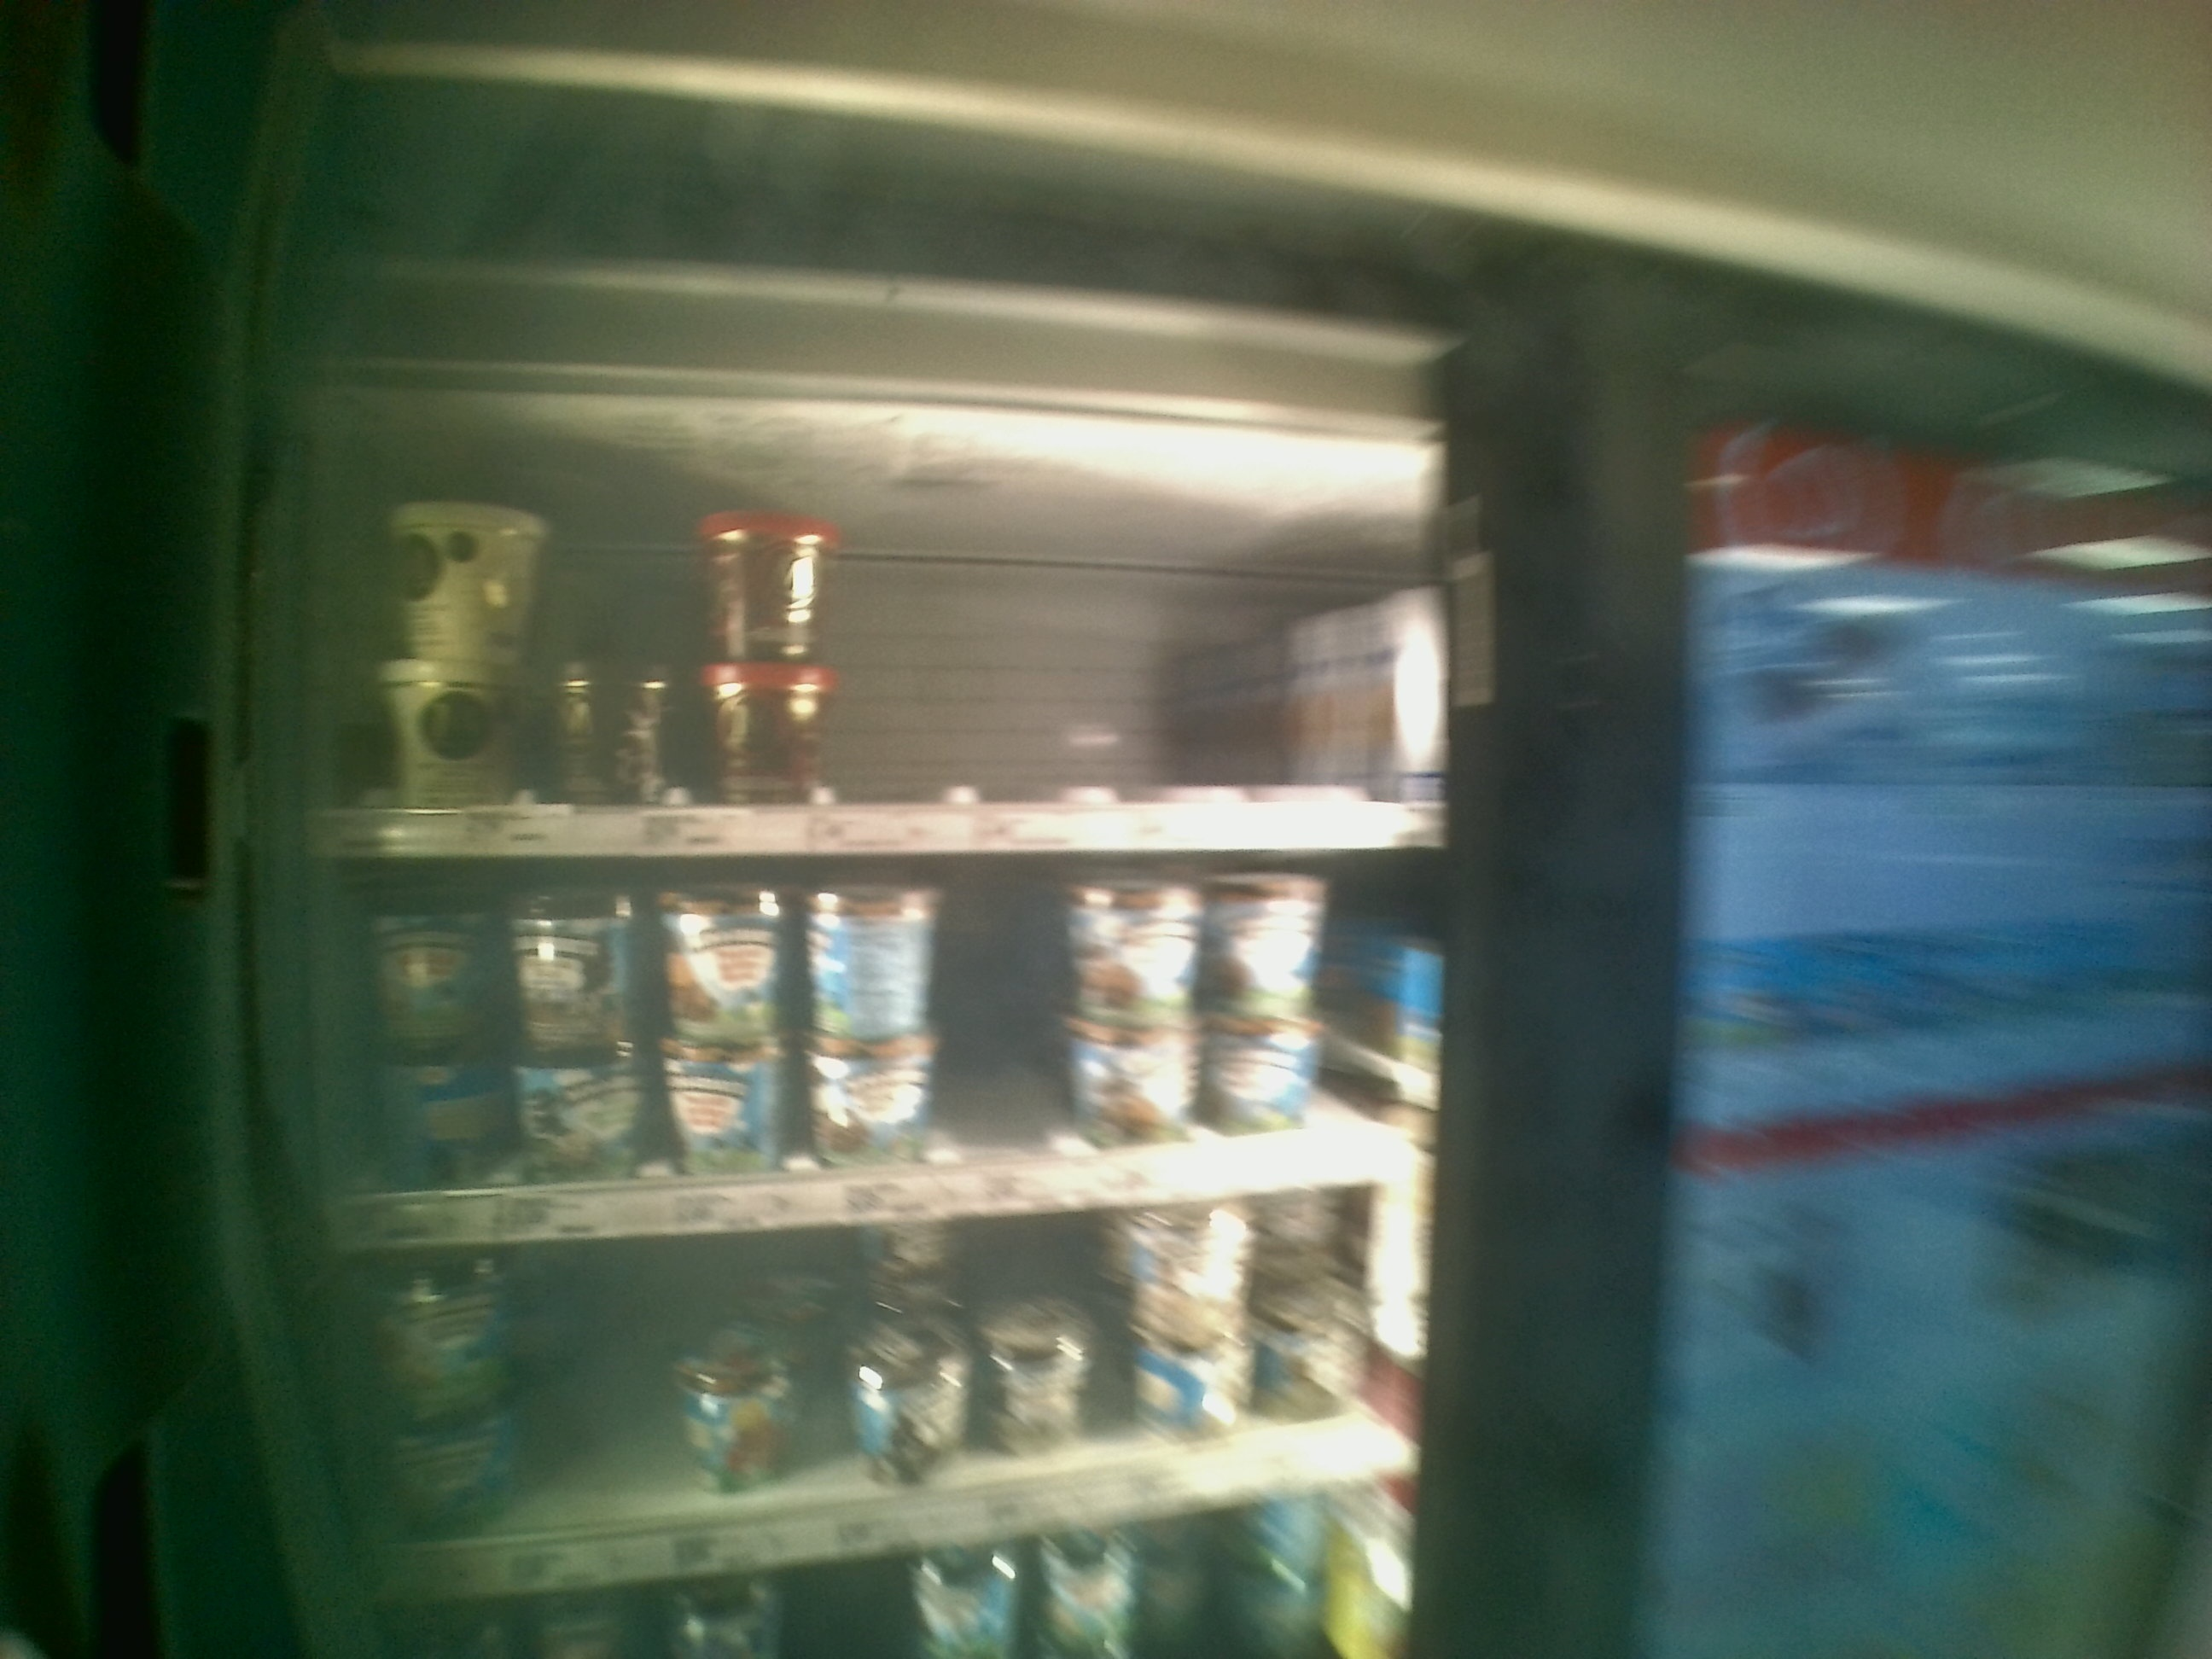shelf: (319, 427, 1453, 849), (319, 854, 1430, 1253)
